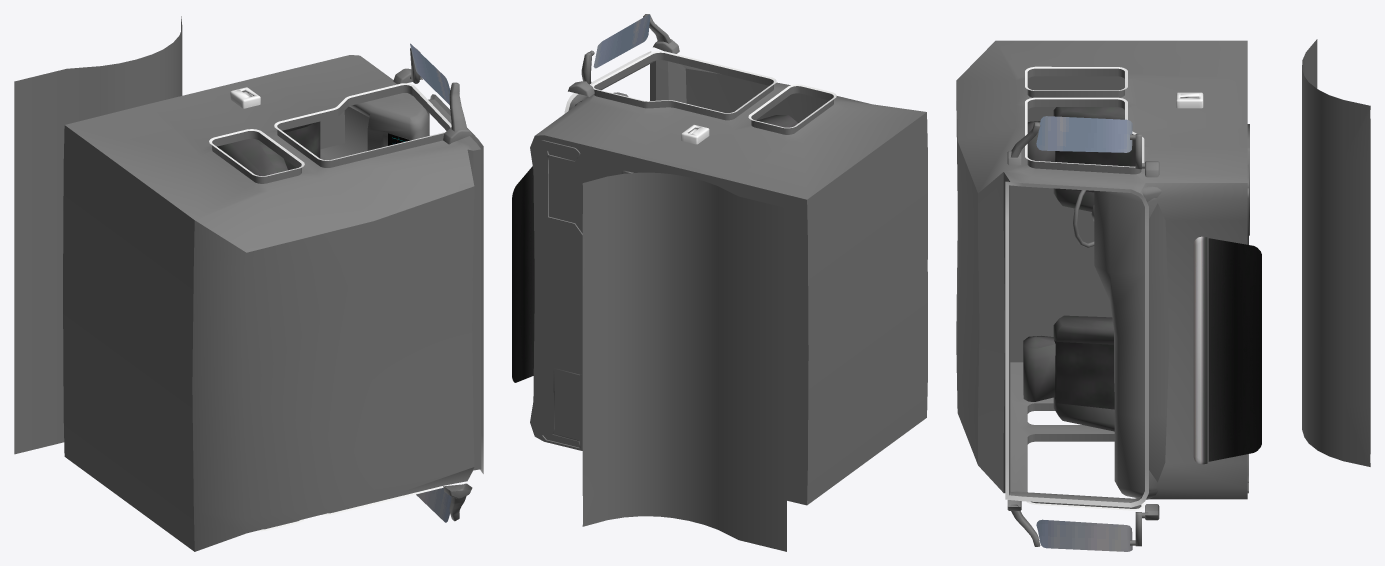
File: cab_detail.obj
3 renders of one model, left to right at view 1: azimuth 30°, elevation 25°; view 2: azimuth 150°, elevation 25°; view 3: azimuth 270°, elevation 25°, orthographic. The views are drawn at different scales.
Parts seen in each view (by area): view 1: interior, underbody01, Box03, trim, Box05, objseat_dark, Object04, objseat_light; view 2: interior, underbody01, details, trim, Object04, Box05, Box03; view 3: interior, underbody01, Box03, details, objseat_dark, Object04, trim, objseat_light, Box05.
Part boxes in pixels (<box>): interior: <box>63,55,481,551</box>; underbody01: <box>14,16,182,454</box>; Box03: <box>320,93,429,160</box>; trim: <box>209,83,483,531</box>; Box05: <box>393,48,472,521</box>; objseat_dark: <box>217,122,314,175</box>; Object04: <box>410,43,451,522</box>; objseat_light: <box>284,121,320,170</box>; interior: <box>530,52,927,505</box>; underbody01: <box>582,172,786,551</box>; details: <box>512,166,534,382</box>; trim: <box>564,51,836,128</box>; Object04: <box>593,14,650,68</box>; Box05: <box>568,14,679,96</box>; Box03: <box>542,92,628,448</box>; interior: <box>956,40,1247,508</box>; underbody01: <box>1302,39,1370,466</box>; Box03: <box>1094,164,1248,499</box>; details: <box>1193,236,1261,464</box>; objseat_dark: <box>1023,107,1124,431</box>; Object04: <box>1036,116,1132,551</box>; trim: <box>1005,66,1148,510</box>; objseat_light: <box>1054,141,1135,409</box>; Box05: <box>1007,122,1159,546</box>.
Size of the model in its own units: 2.26 by 2.92 by 2.54.
5 materials, 4 textured.
